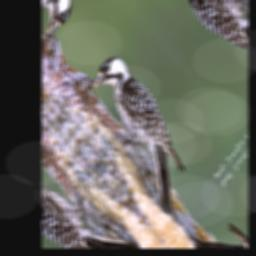Woodpecker: (74, 48, 213, 218)
